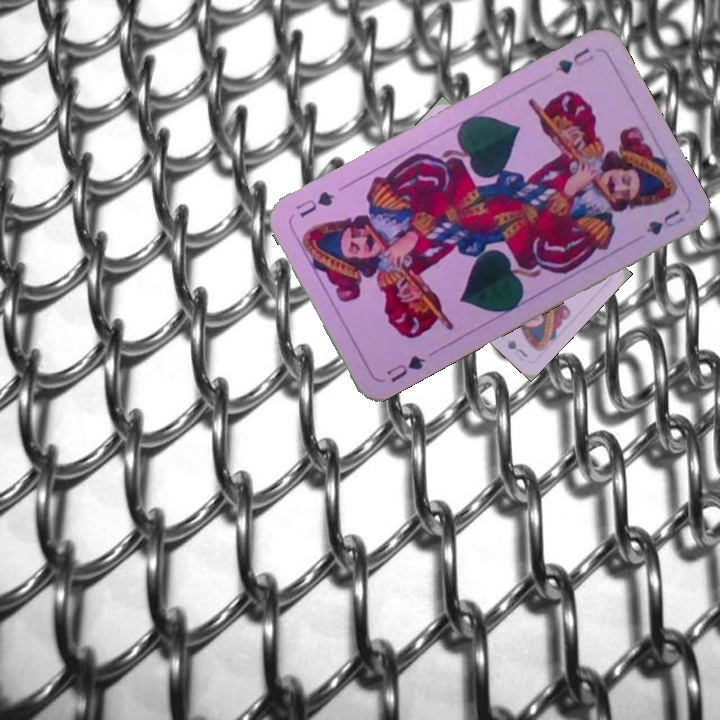GU: (382, 351, 428, 385), (551, 43, 597, 77)
